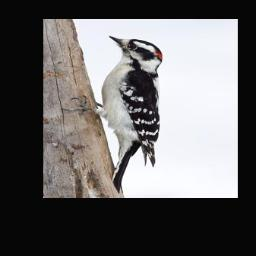Woodpecker: (61, 33, 165, 194)
